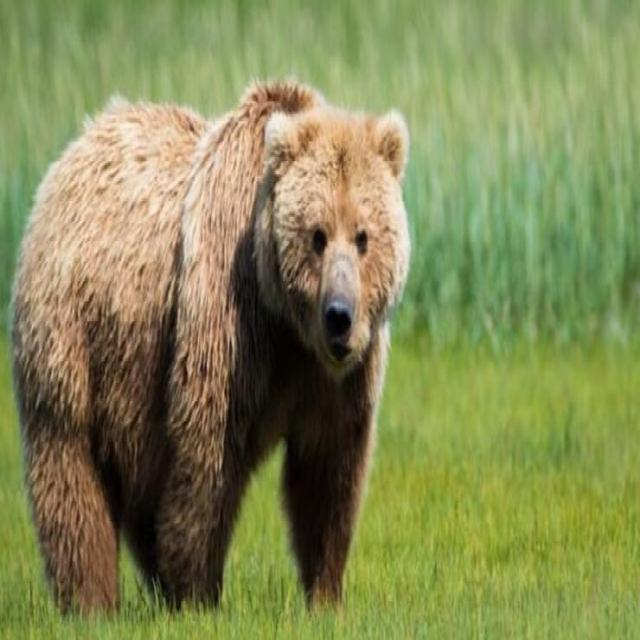Bear: (10, 80, 412, 617)
